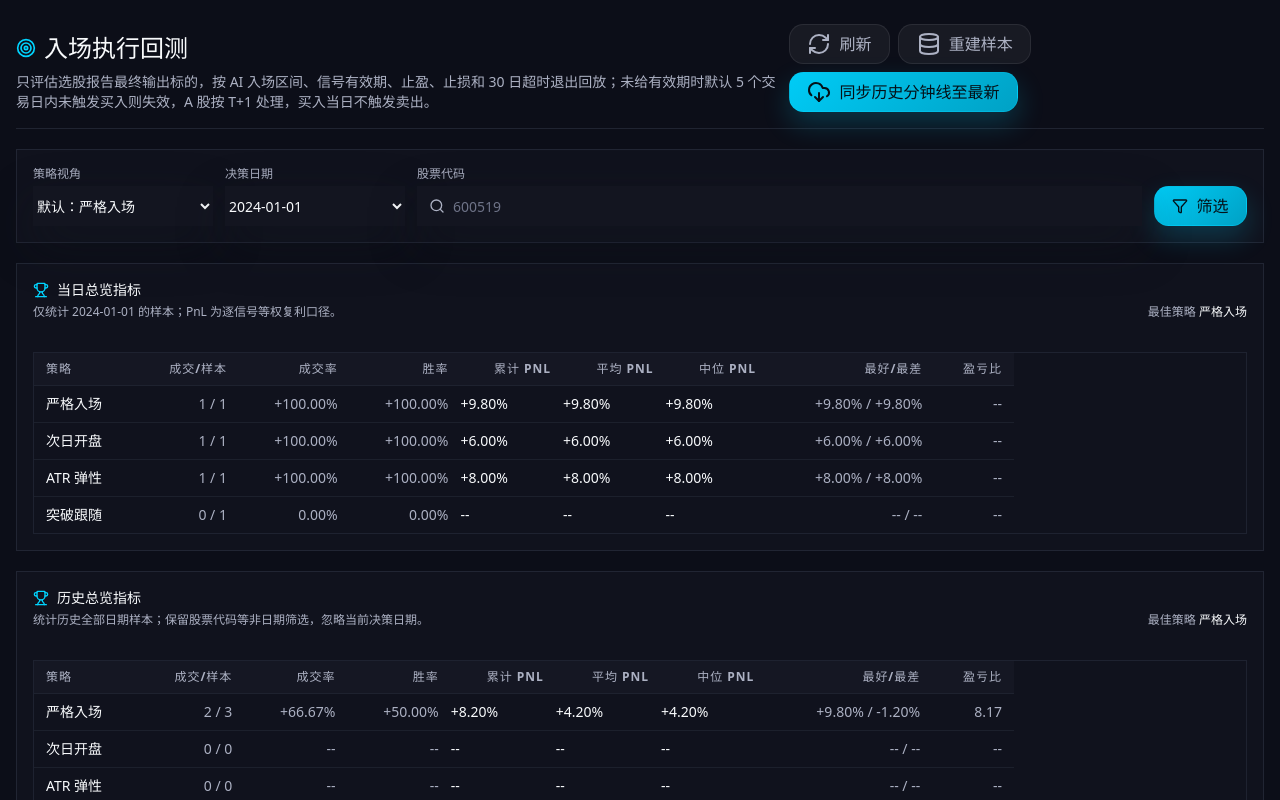
Test: AgentEntryExecutionBacktestsPage › syncs all historical report minute bars through the latest date
Expected: the dropdown showing "2024-01-01" is shown, [225, 186, 405, 226]
Step 1. Click the button "同步历史分钟线至最新" → (904,92), box [789, 72, 1018, 112]
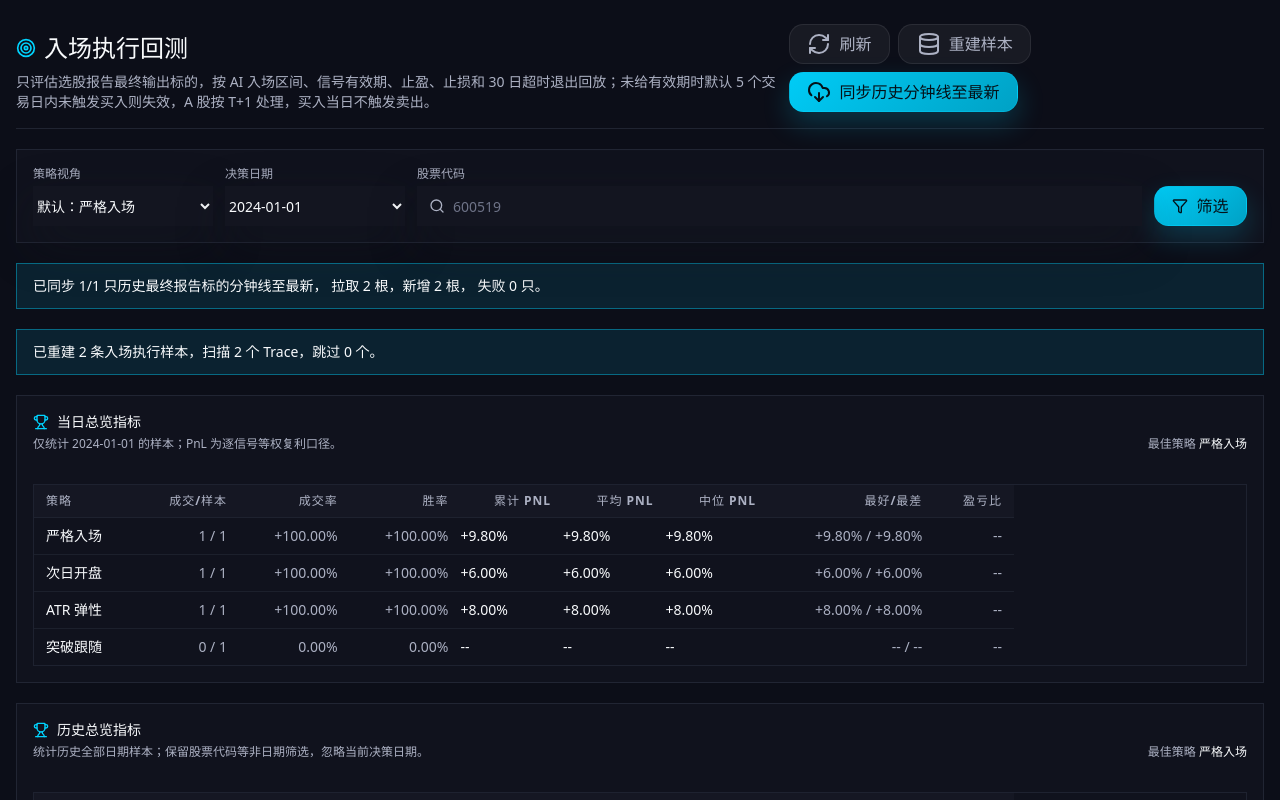
Now the text "已同步 1/1 只历史最终报告标的分钟线至最新， 拉取 2 根，新增 2 根， 失败 0 只。" is shown, box [16, 263, 1264, 309]
